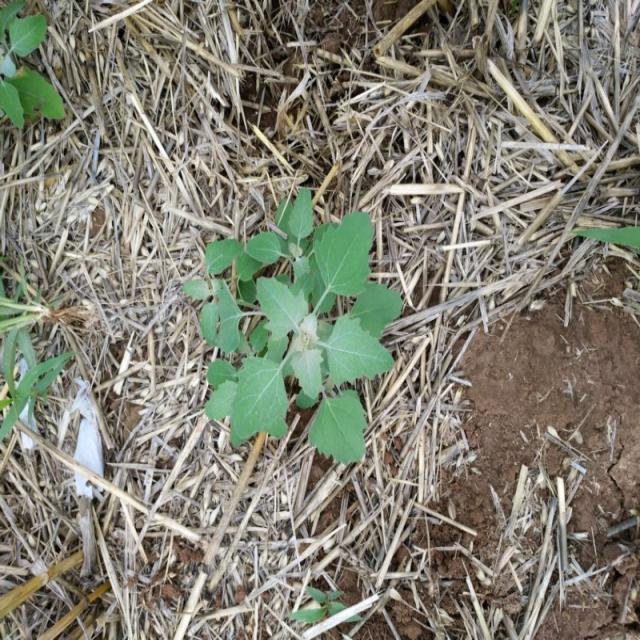goosefoots: (178, 221, 402, 455)
